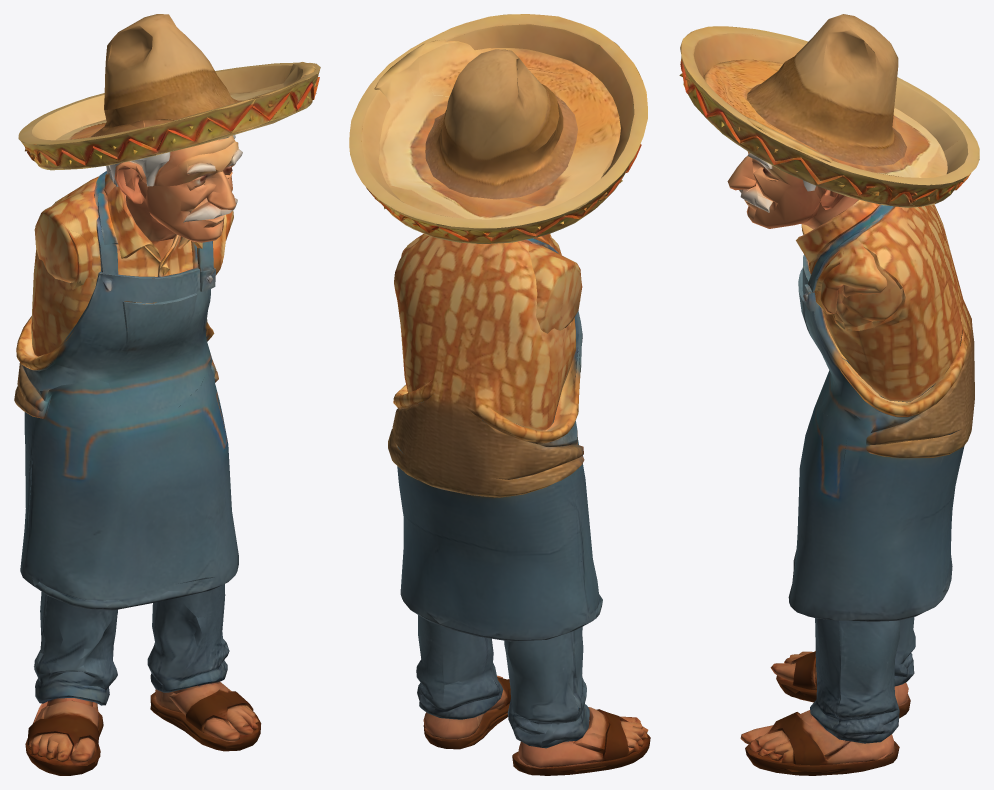
Rendered from cuerpoArtesano.obj.
3 renders of one model, left to right at view 1: azimuth 30°, elevation 25°; view 2: azimuth 150°, elevation 25°; view 3: azimuth 270°, elevation 25°, orthographic. The views are drawn at different scales.
Parts seen in each view (by area): view 1: cuerpoArtesano; view 2: cuerpoArtesano; view 3: cuerpoArtesano.
Boxes of the visible parts, <box> form: cuerpoArtesano: <box>14,14,320,775</box>; cuerpoArtesano: <box>349,14,650,775</box>; cuerpoArtesano: <box>679,14,979,775</box>.
Bounding box in the file's own units: 0.7729 × 1.89 × 0.7122.
2 materials, 2 textured.
